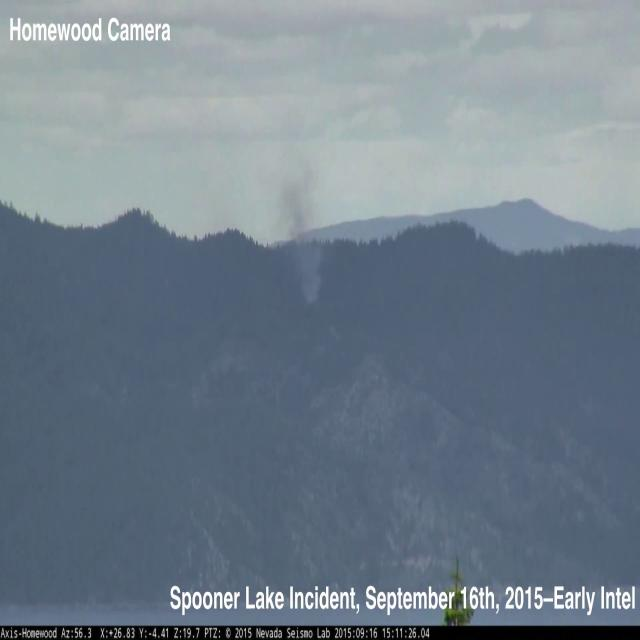smoke: (275, 109, 325, 307)
